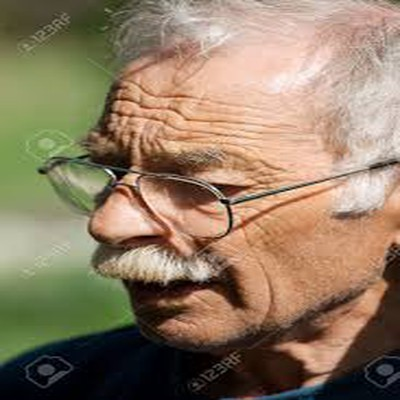eywear: (49, 121, 268, 244)
